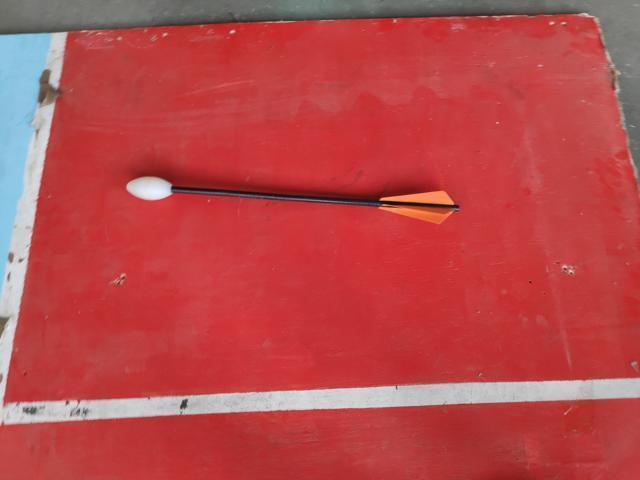Head: (122, 172, 175, 203)
Tail: (375, 185, 463, 229)
